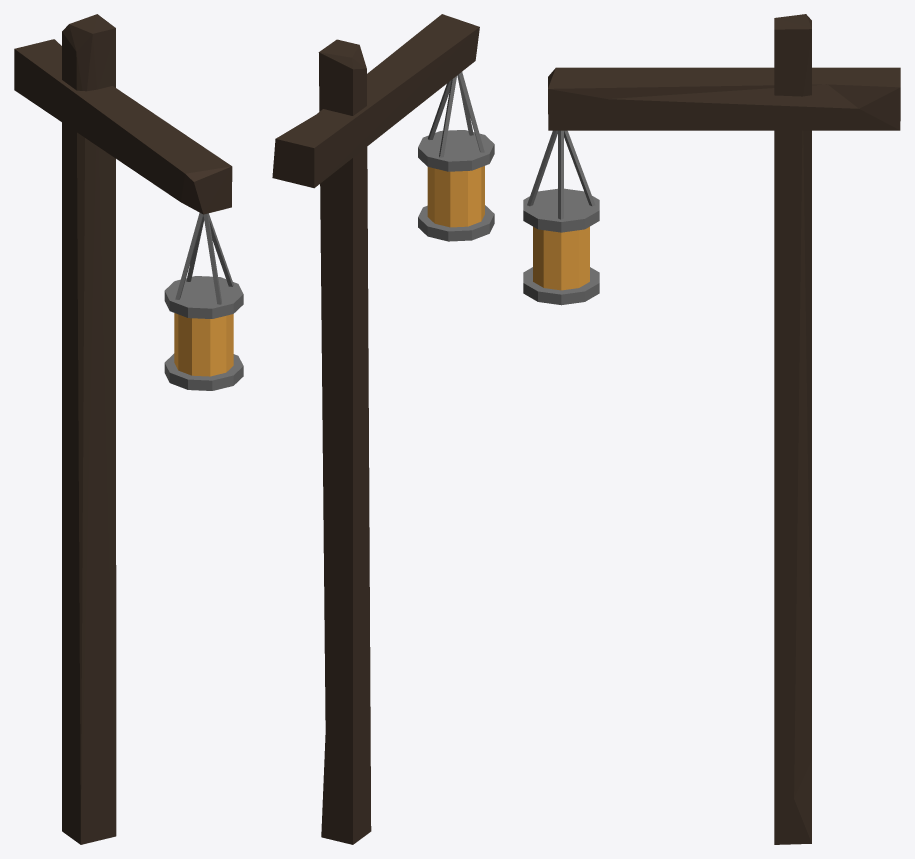
Rendered from SM_lantern_street.fbx.
The picture shows the model from 3 angles, left to right: view 1: azimuth 30°, elevation 25°; view 2: azimuth 150°, elevation 25°; view 3: azimuth 270°, elevation 25°; orthographic projection. The views are drawn at different scales.
Parts seen in each view (by area): view 1: Object329; view 2: Object329; view 3: Object329.
Part boxes in pixels (x1,y1,x2,y2): Object329: (14, 14, 243, 844); Object329: (272, 14, 494, 844); Object329: (523, 14, 900, 844).
Bounding box in the file's own units: 15.14 × 170 × 71.3.
